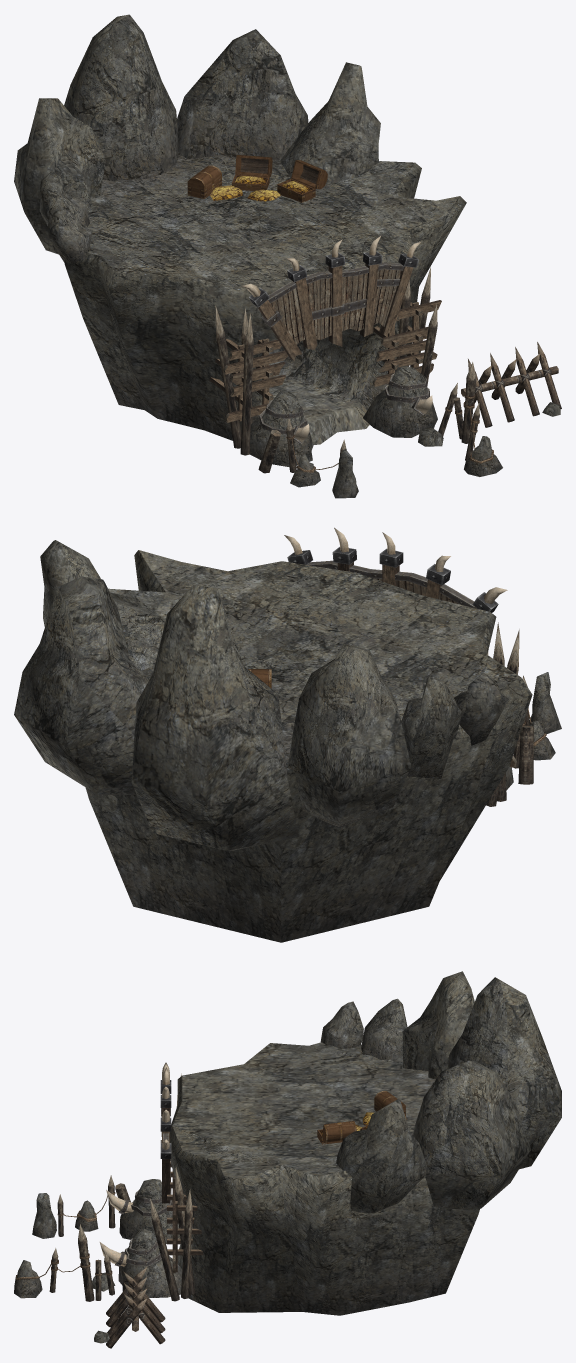
Rendered from SC_yonghengsenlin_25.FBX.
3 renders of one model, top to bottom at view 1: azimuth 30°, elevation 25°; view 2: azimuth 150°, elevation 25°; view 3: azimuth 270°, elevation 25°, orthographic. The views are drawn at different scales.
Parts seen in each view (by area): view 1: SC_yonghengsenlin_25; view 2: SC_yonghengsenlin_25; view 3: SC_yonghengsenlin_25.
Part boxes in pixels (bbox=[...]): SC_yonghengsenlin_25: bbox=[14, 14, 561, 498]; SC_yonghengsenlin_25: bbox=[14, 527, 561, 942]; SC_yonghengsenlin_25: bbox=[14, 971, 561, 1348].
Bounding box in the file's own units: 1528 × 1116 × 2013.
